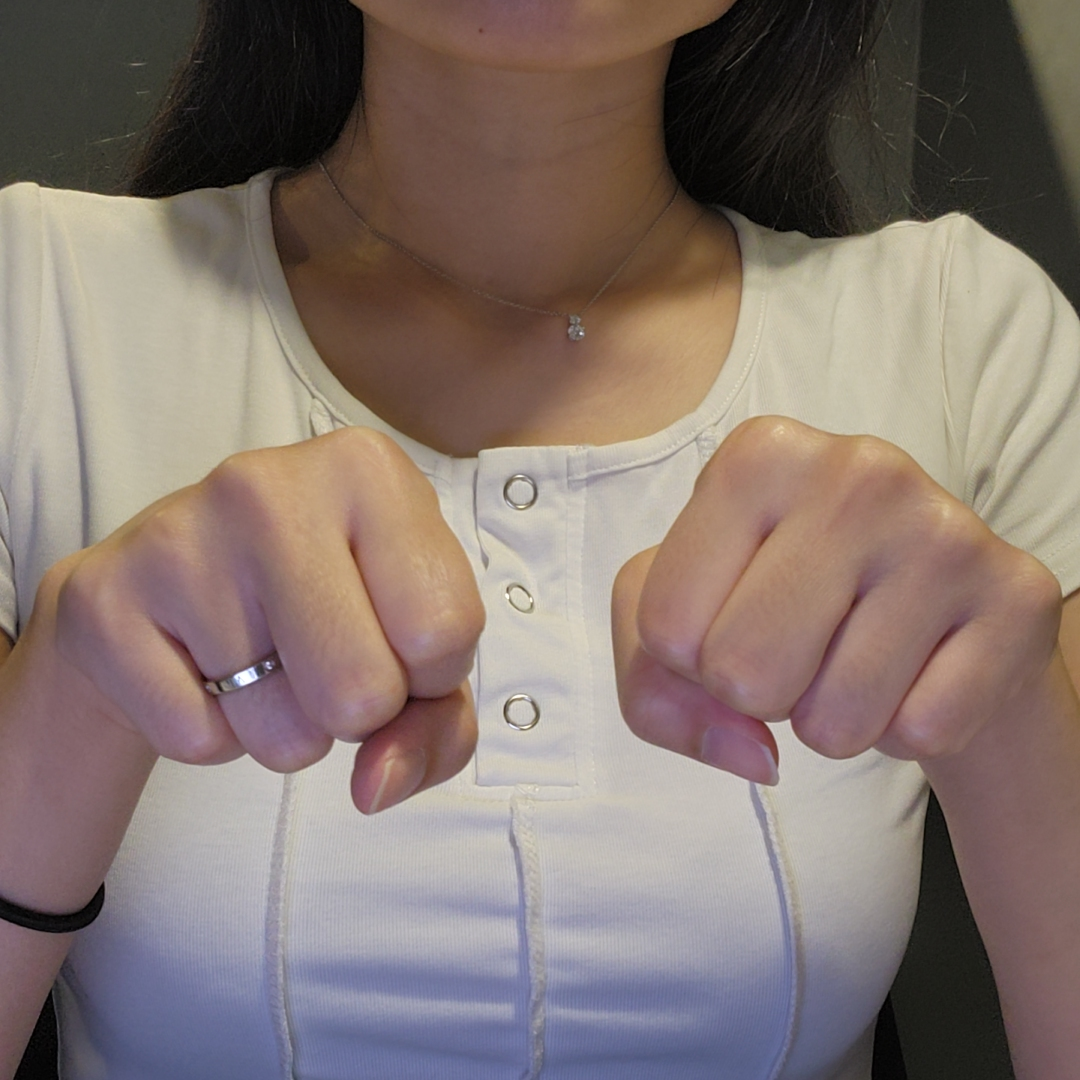hello: (64, 416, 1060, 821)
